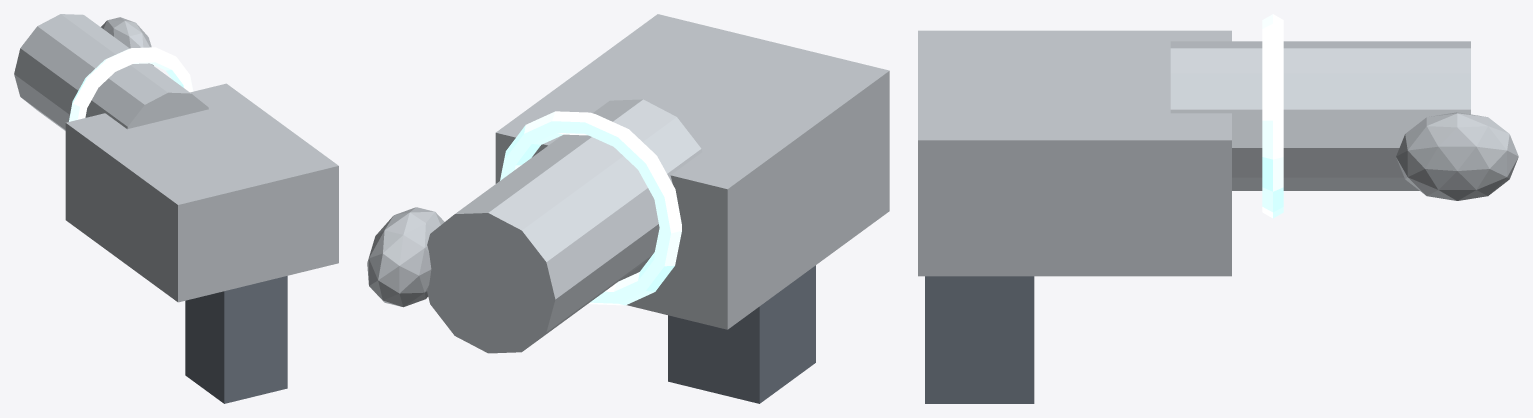
Rendered from pistola_0.glb.
3 renders of one model, left to right at view 1: azimuth 30°, elevation 25°; view 2: azimuth 150°, elevation 25°; view 3: azimuth 270°, elevation 25°, orthographic. The views are drawn at different scales.
Parts seen in each view (by area): view 1: cuerpo, cañon, empuñadura, bobina, punta; view 2: cuerpo, cañon, empuñadura, bobina, punta; view 3: cuerpo, cañon, empuñadura, punta, bobina.
Boxes of the visible parts, box(x1,y1,x2,y2) form: cuerpo: box(65, 83, 338, 302); cañon: box(14, 14, 208, 130); empuñadura: box(185, 276, 287, 403); bobina: box(69, 47, 193, 121); punta: box(101, 17, 153, 65); cuerpo: box(495, 14, 889, 329); cañon: box(427, 99, 702, 353); empuñadura: box(668, 265, 815, 403); bobina: box(500, 111, 681, 305); punta: box(367, 207, 444, 307); cuerpo: box(918, 30, 1231, 276); cañon: box(1170, 41, 1470, 190); empuñadura: box(925, 276, 1034, 403); punta: box(1396, 112, 1518, 200); bobina: box(1262, 14, 1283, 218).
Size of the model in its own units: 0.3886 by 0.5932 by 0.9.
